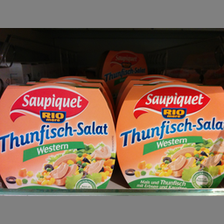fish: (1, 83, 117, 191), (116, 82, 224, 189)
